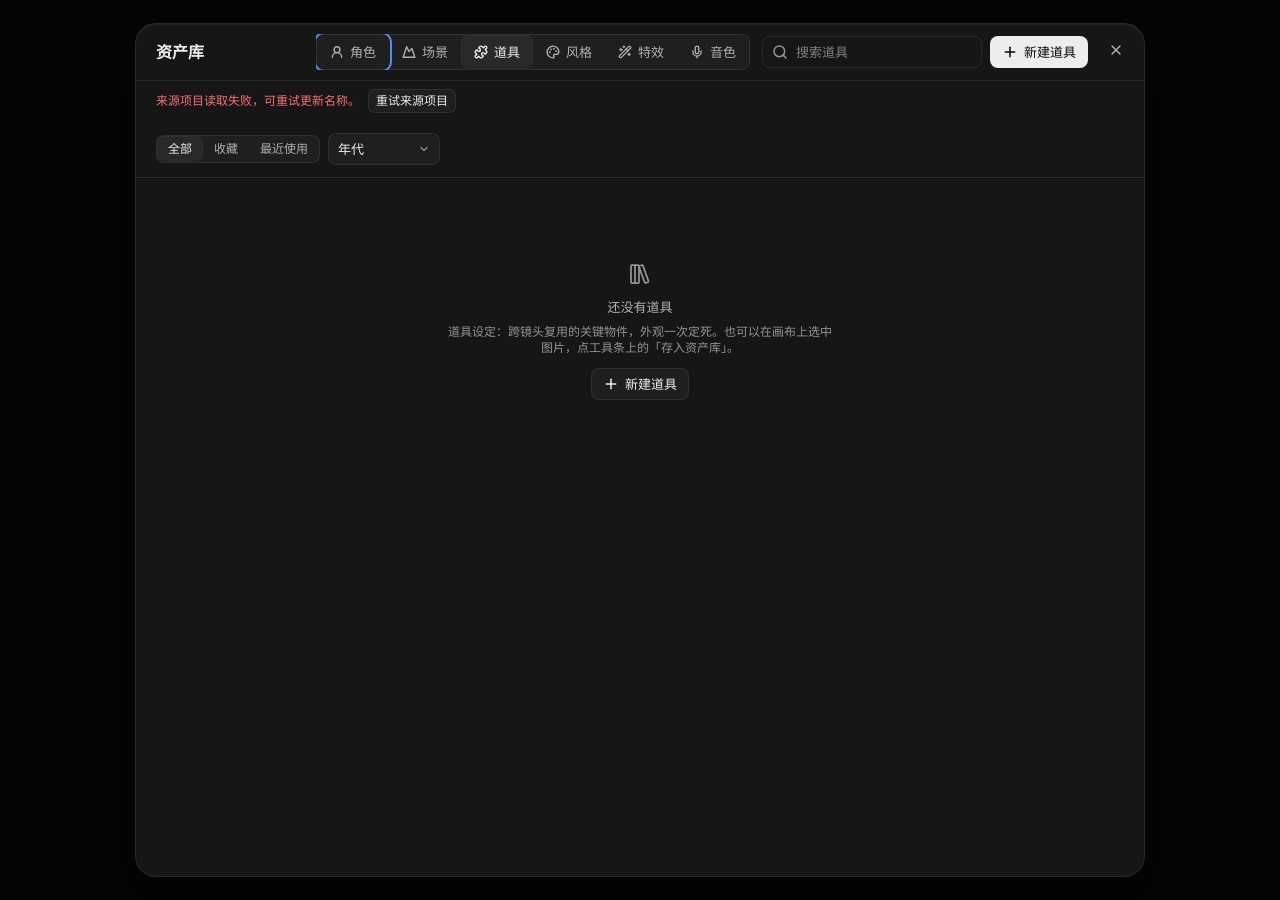
Test: 资产库面板的筛选与来源 › 来源项目读取失败时可重试，恢复后显示真实项目名
Expected: the text "来源项目读取失败，可重试更新名称。" is shown, [156,93,360,109]
Click the button "重试来源项目": (412, 101) [368,89,456,113]
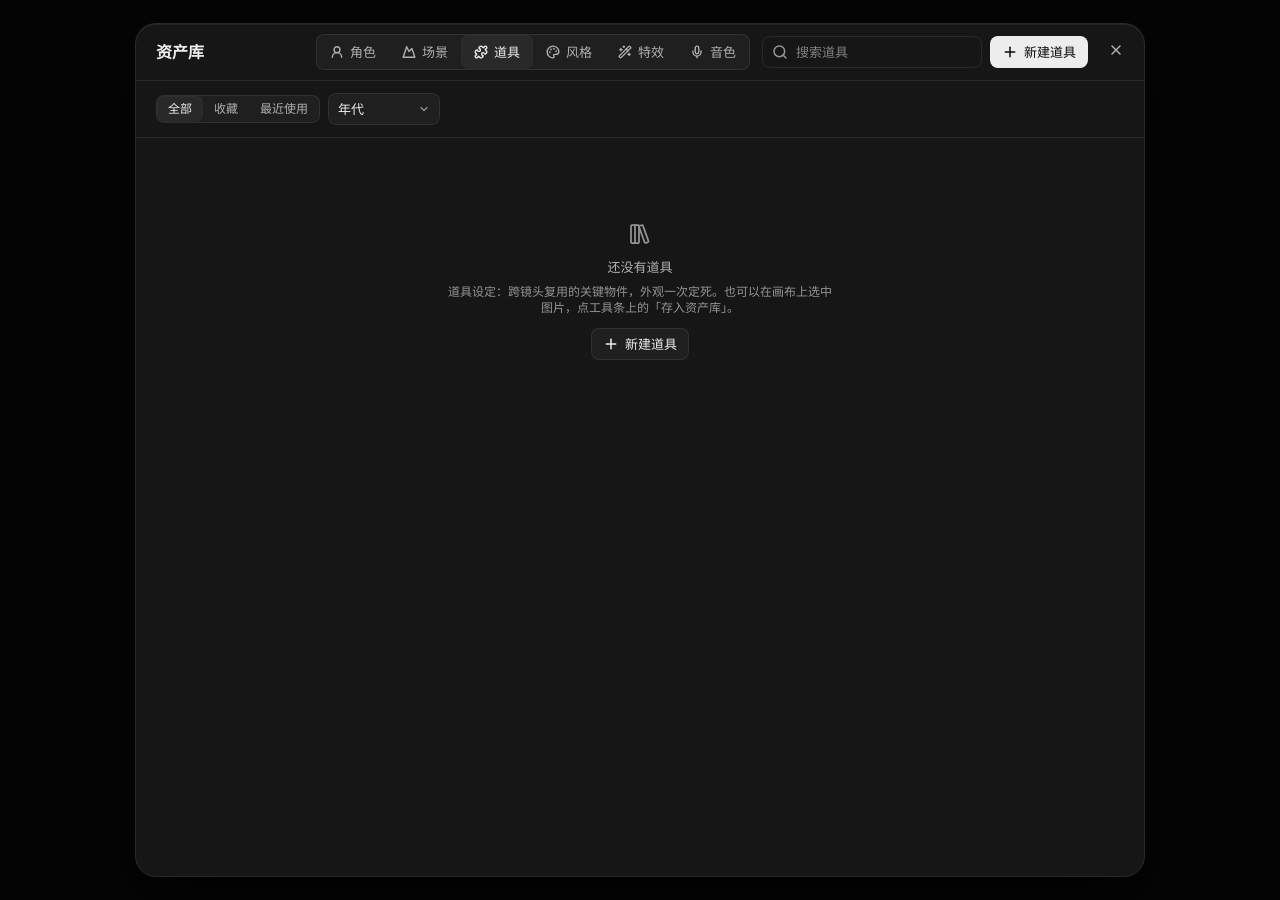
Expected: the text "来源项目读取失败，可重试更新名称。" is gone
